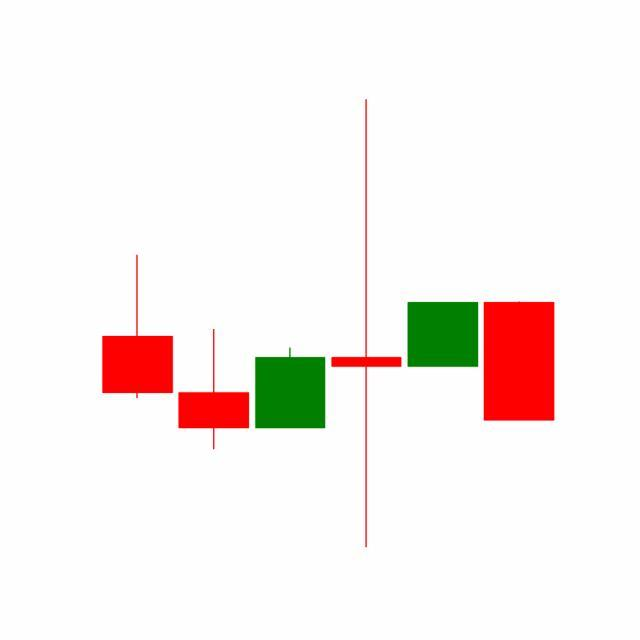Marubozu: (404, 302, 482, 368)
